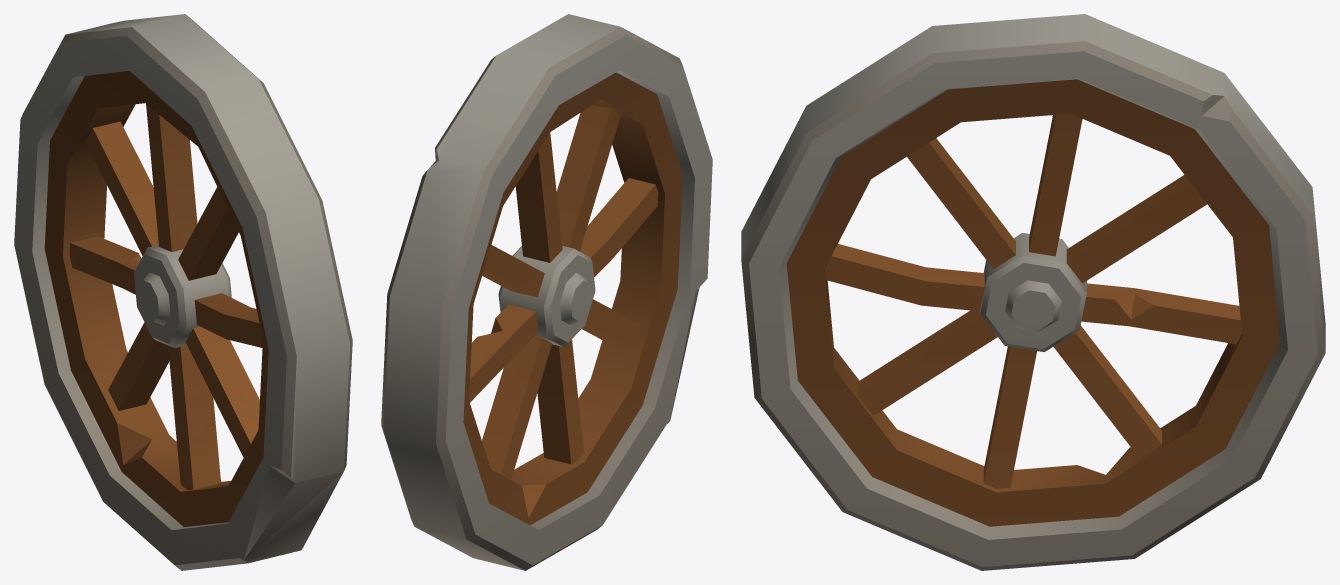
File: Wheel_A.glb
3 views of the same model, side by side, from view 1: azimuth 30°, elevation 25°; view 2: azimuth 150°, elevation 25°; view 3: azimuth 270°, elevation 25° (orthographic). The views are drawn at different scales.
Visible parts, largest first — view 1: Wheel_A; view 2: Wheel_A; view 3: Wheel_A.
Part boxes in pixels (x1,y1,x2,y2): Wheel_A: (14,14,352,570); Wheel_A: (381,14,712,570); Wheel_A: (741,14,1325,570).
Size of the model in its own units: 0.1375 by 0.95 by 0.95.
2 materials, 2 textured.
